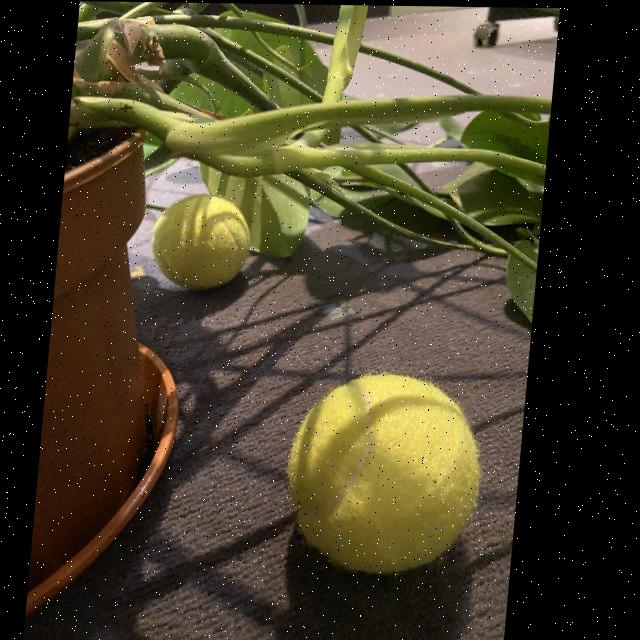Tennisball: (288, 373, 480, 573), (152, 194, 250, 290)
